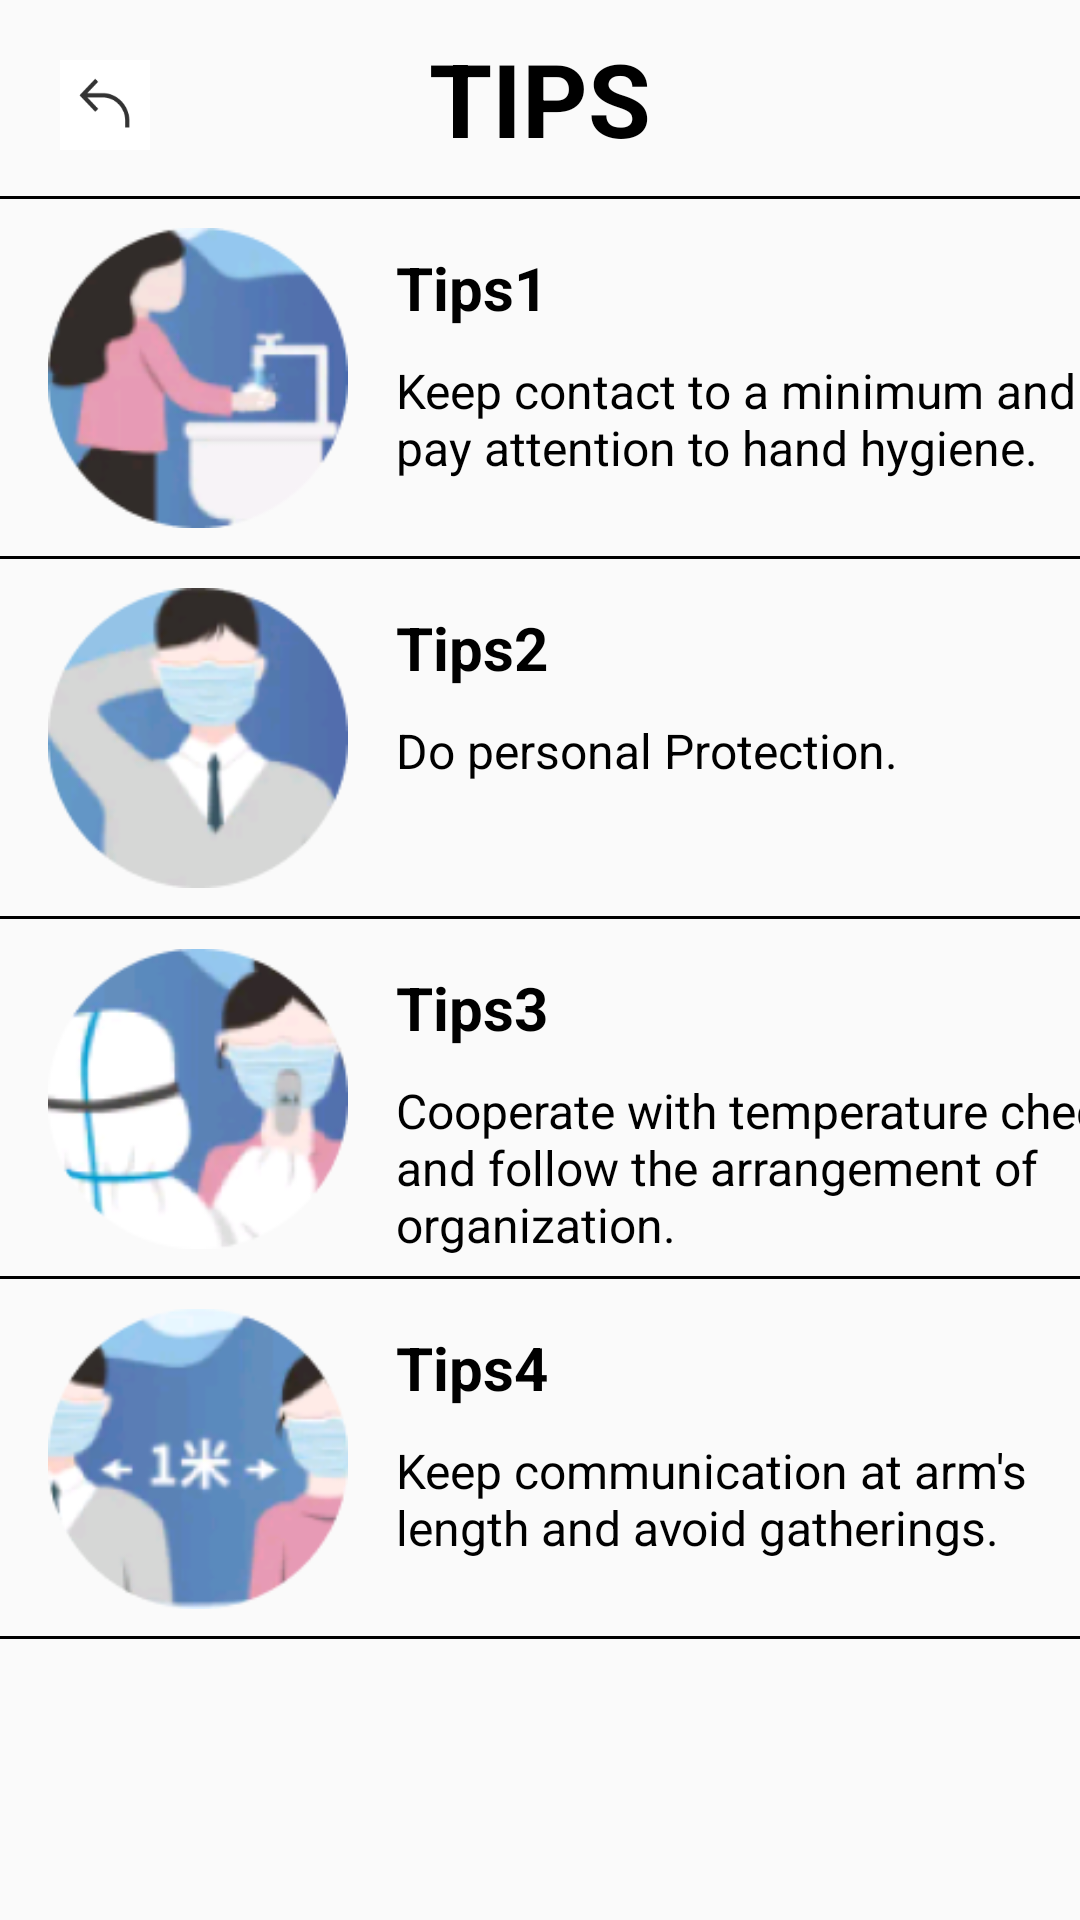

Icon bounding boxes for this 1080 × 1920 phone screenshot, format {"x1": x1, "y1": y1, "x2": x2, "y2": y2}:
backbutton: {"x1": 79, "y1": 79, "x2": 130, "y2": 128}
